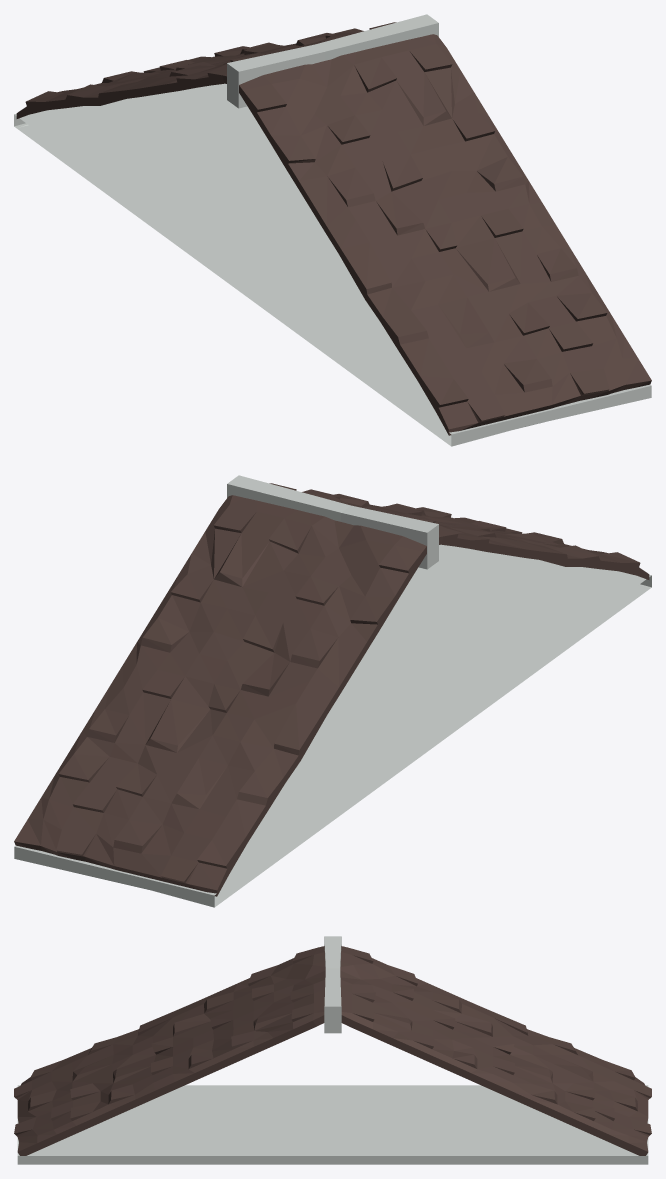
Rendered from SM_Bld_Mansion_Roof_Middle_01.glb.
3 views of the same model, one above another, from view 1: azimuth 30°, elevation 25°; view 2: azimuth 150°, elevation 25°; view 3: azimuth 270°, elevation 25° (orthographic). The views are drawn at different scales.
Visible parts, largest first — view 1: SM_Bld_Mansion_Roof_Middle_01_part00; view 2: SM_Bld_Mansion_Roof_Middle_01_part00; view 3: SM_Bld_Mansion_Roof_Middle_01_part00.
Boxes of the visible parts, <box> form: SM_Bld_Mansion_Roof_Middle_01_part00: <box>14,14,651,446</box>; SM_Bld_Mansion_Roof_Middle_01_part00: <box>14,475,651,907</box>; SM_Bld_Mansion_Roof_Middle_01_part00: <box>14,936,651,1164</box>.
Size of the model in its own units: 3 by 3.14 by 11.49.
1 material, 1 textured.
